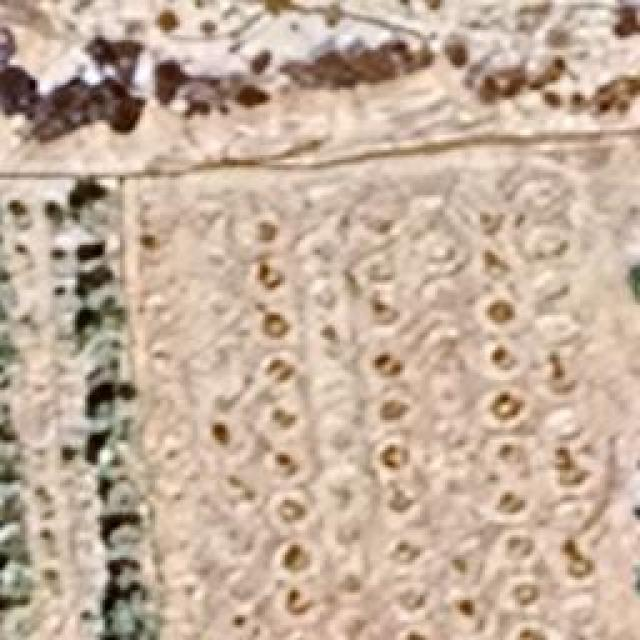PalmTree: (43, 45, 125, 526), (9, 57, 43, 482), (92, 550, 160, 640), (62, 161, 116, 219), (76, 300, 134, 342), (0, 492, 30, 570), (88, 381, 138, 421), (92, 428, 138, 468), (71, 240, 109, 265)
